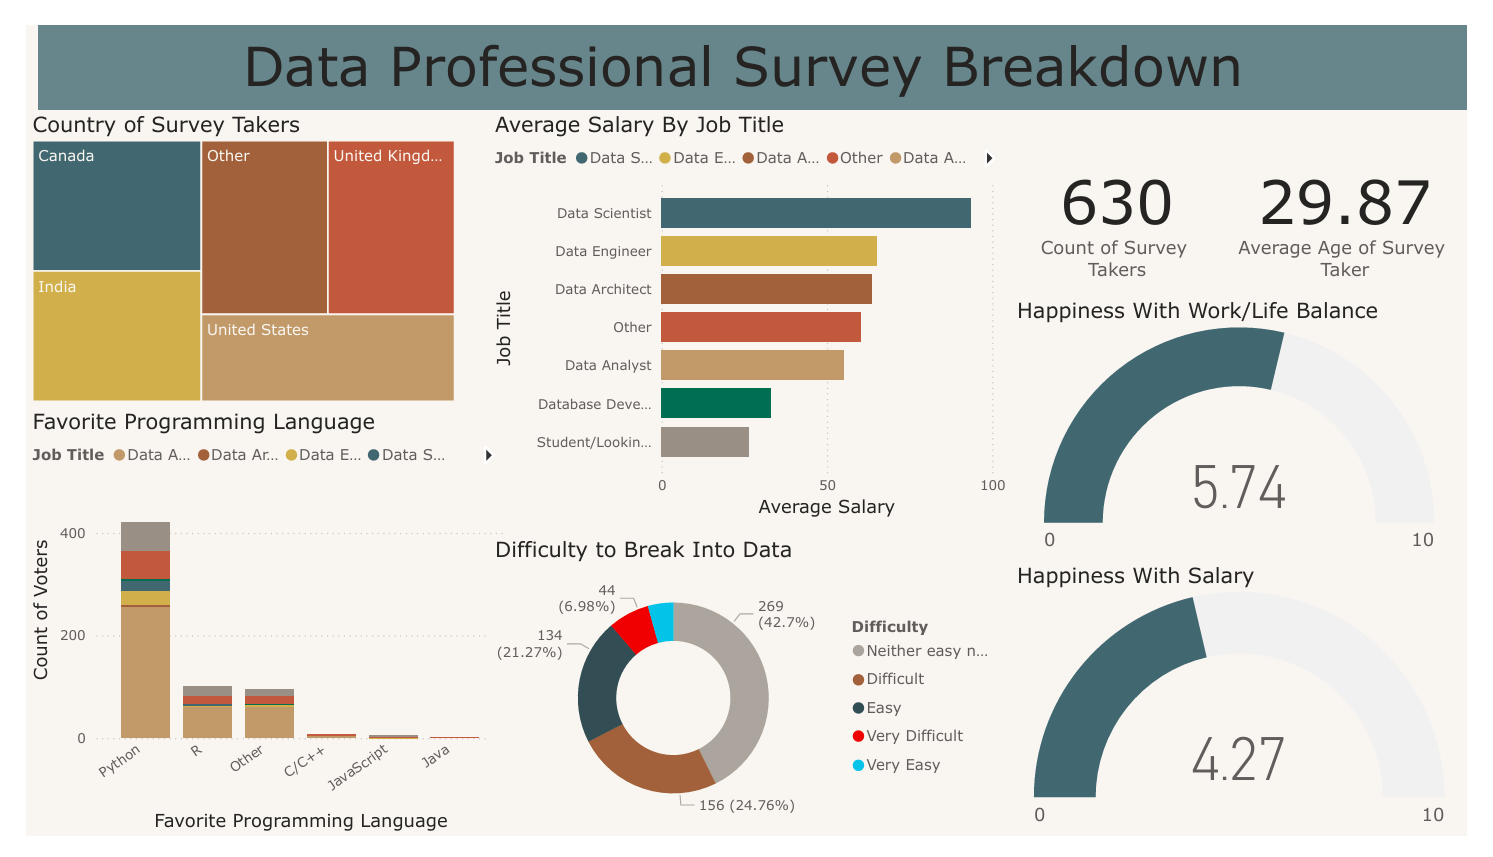

What the dashboard file says about the page in this screenshot:
{"tool":"powerbi","page":{"name":"Page 1","canvas":[1280,720],"ordinal":0},"visuals":[{"type":"textbox","box":[9.5,0,1270.8,74.8],"z":0},{"type":"card","fields":{"Values":["CountNonNull(Data Professional Survey.Unique ID)"]},"box":[874.8,74.8,187.8,175.5],"z":1000},{"type":"card","fields":{"Values":["Avg(Data Professional Survey.Q10 - Current Age)"]},"box":[1062.6,74.8,217.7,175.5],"z":2000},{"type":"barChart","title":"Average Salary By Job Title","fields":{"Category":["Data Professional Survey.Q1 - Which Title Best Fits your Current Role?.1"],"Y":["Avg(Data Professional Survey.Average Salary)"],"Series":["Data Professional Survey.Q1 - Which Title Best Fits your Current Role?.1"]},"box":[410.9,74.8,463.9,366],"z":3000},{"type":"columnChart","title":"Favorite Programming Language","fields":{"Category":["Data Professional Survey.Q5 - Favorite Programming Language.1"],"Y":["CountNonNull(Data Professional Survey.Unique ID)"],"Series":["Data Professional Survey.Q1 - Which Title Best Fits your Current Role?.1"]},"box":[0,338.8,429.9,381],"z":4000},{"type":"treemap","title":"Country of Survey Takers","fields":{"Values":["Count(Data Professional Survey.Q11 - Which Country do you live in?.1)"],"Group":["Data Professional Survey.Q11 - Which Country do you live in?.1"]},"box":[0,74.8,385,263.9],"z":5000},{"type":"gauge","title":"Happiness With Work/Life Balance","fields":{"Y":["Avg(Data Professional Survey.Q6 - How Happy are you in your Current Position with the following? (Work/Life Balance))"],"MinValue":["Min(Data Professional Survey.Q6 - How Happy are you in your Current Position with the following? (Work/Life Balance))1"],"MaxValue":["Max(Data Professional Survey.Q6 - How Happy are you in your Current Position with the following? (Work/Life Balance))2"]},"box":[874.8,240.8,405.4,235.4],"z":6000},{"type":"gauge","title":"Happiness With Salary","fields":{"Y":["Avg(Data Professional Survey.Q6 - How Happy are you in your Current Position with the following? (Salary))"],"MinValue":["Min(Data Professional Survey.Q6 - How Happy are you in your Current Position with the following? (Salary))"],"MaxValue":["Max(Data Professional Survey.Q6 - How Happy are you in your Current Position with the following? (Salary))"]},"box":[874.8,476.2,405.4,243.5],"z":7000},{"type":"donutChart","title":"Difficulty to Break Into Data","fields":{"Category":["Data Professional Survey.Q7 - How difficult was it for you to break into Data?"],"Y":["CountNonNull(Data Professional Survey.Q7 - How difficult was it for you to break into Data?)"]},"box":[410.9,453.1,463.9,266.7],"z":8000}]}

Visuals, with their boxes in screenshot pixels (x1, y1, x2, y2), scaled from the page's 1280x720 canvas onto the 1493x857 screenshot:
textbox: (11, 0, 1492, 89)
card - CountNonNull(Data Professional Survey.Unique ID): (1020, 89, 1239, 298)
card - Avg(Data Professional Survey.Q10 - Current Age): (1239, 89, 1492, 298)
"Average Salary By Job Title" barChart: (479, 89, 1020, 525)
"Favorite Programming Language" columnChart: (0, 403, 501, 856)
"Country of Survey Takers" treemap: (0, 89, 449, 403)
"Happiness With Work/Life Balance" gauge: (1020, 287, 1492, 567)
"Happiness With Salary" gauge: (1020, 567, 1492, 856)
"Difficulty to Break Into Data" donutChart: (479, 539, 1020, 856)
